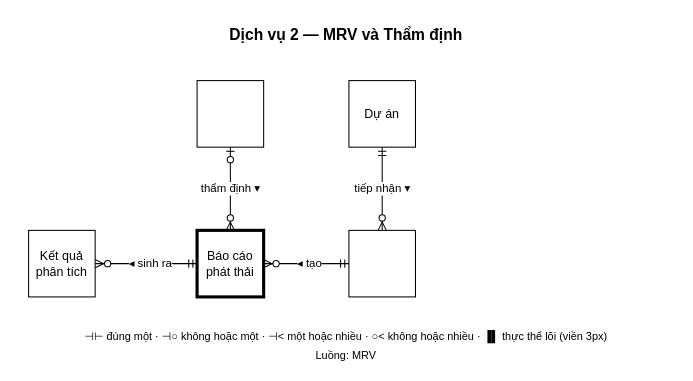
This 693x381 diagram has some shape labels left out. Each missing label, with the centre of its shape:
Hồ sơ dự án: (x=381, y=263)
Đơn vị thẩm định: (x=230, y=113)
